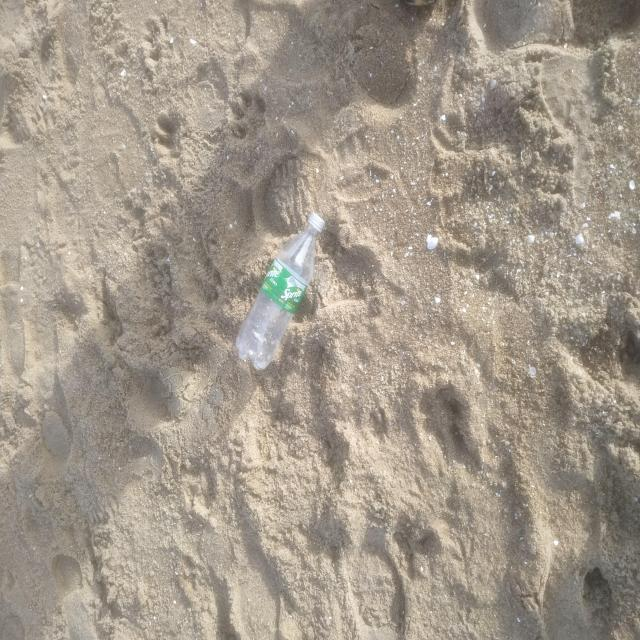litter: (212, 163, 355, 427)
